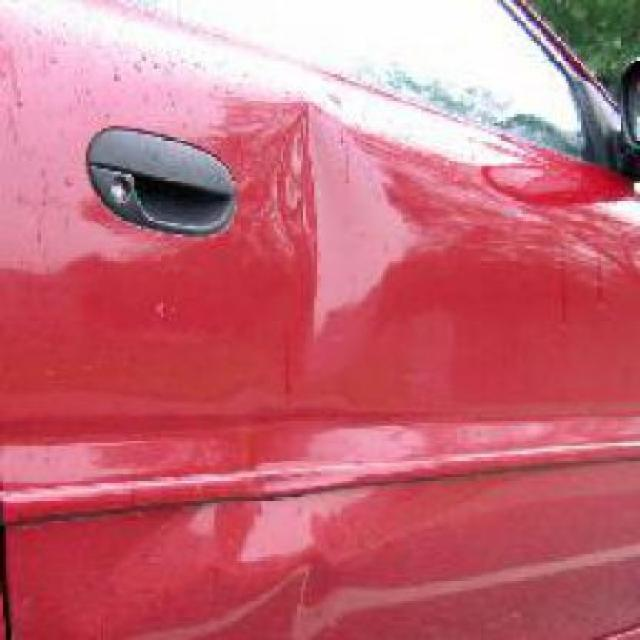dent-or-scratch: (250, 92, 428, 338), (169, 414, 365, 568)
